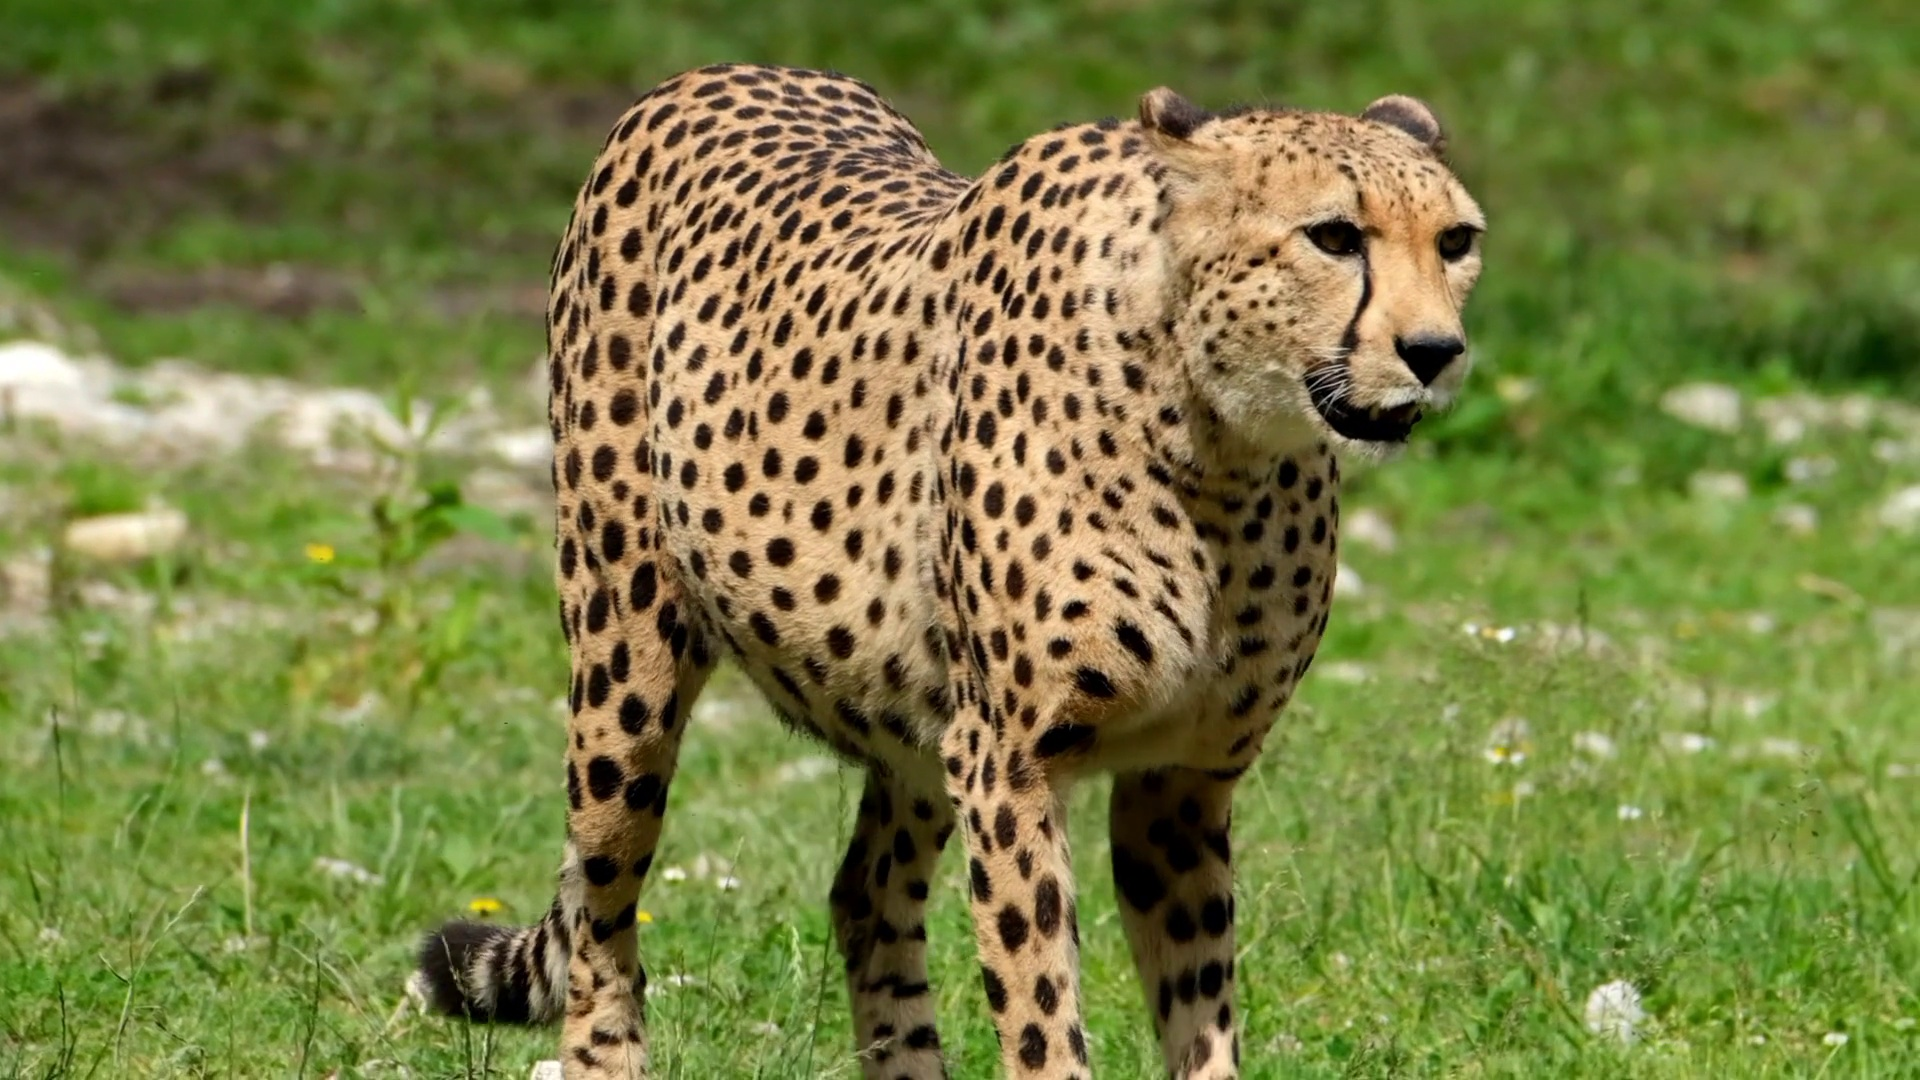Cheetah: (411, 57, 1494, 1080)
